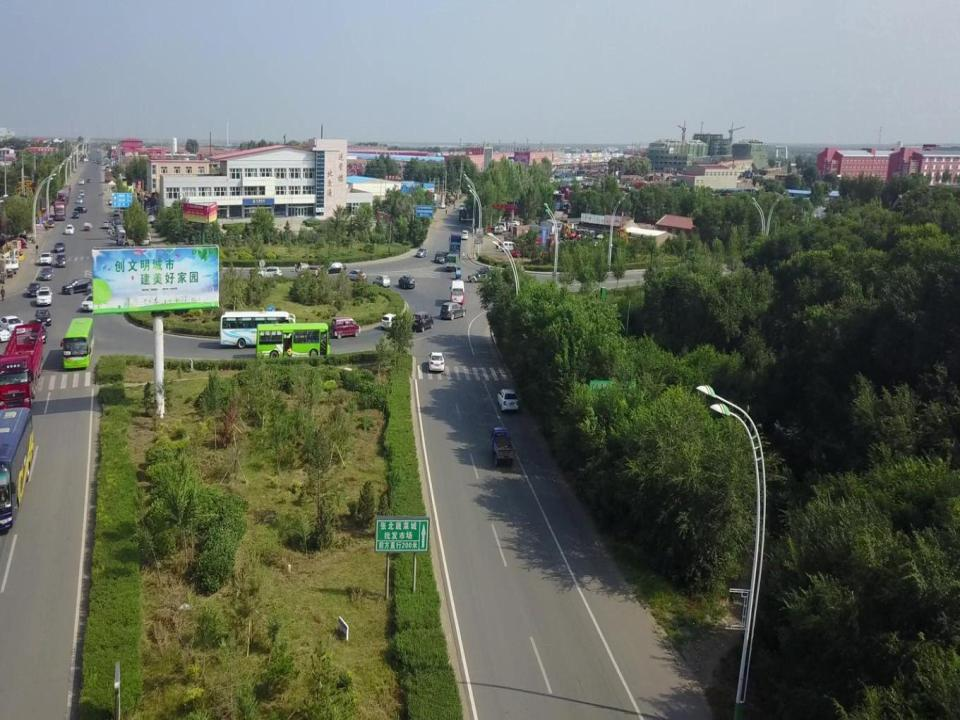bus: (1, 406, 36, 536), (256, 324, 331, 363), (219, 311, 296, 348), (60, 318, 94, 371), (449, 279, 465, 306)
car: (496, 388, 520, 412), (60, 278, 92, 296), (80, 292, 106, 312), (0, 314, 25, 334), (440, 301, 466, 320), (468, 268, 495, 284), (380, 312, 401, 332), (28, 323, 48, 344), (297, 264, 323, 280), (427, 351, 445, 373), (34, 308, 53, 326), (36, 286, 53, 306), (256, 266, 282, 278), (345, 268, 367, 282), (322, 262, 346, 274), (398, 275, 416, 290), (25, 282, 41, 298), (372, 274, 390, 288), (38, 267, 54, 282), (38, 252, 54, 266), (415, 247, 429, 258), (434, 252, 446, 264), (510, 247, 523, 258), (52, 241, 66, 251), (64, 224, 76, 234), (73, 206, 88, 214), (101, 220, 111, 228), (72, 210, 79, 218), (76, 196, 84, 203), (108, 198, 115, 205), (78, 179, 85, 184), (86, 178, 92, 182)
truck: (1, 324, 44, 410), (489, 425, 516, 467), (447, 232, 461, 260), (53, 198, 66, 221), (58, 184, 71, 204), (446, 253, 460, 271)
van: (330, 316, 360, 339), (411, 311, 434, 332), (54, 252, 66, 268), (501, 241, 518, 251), (492, 225, 503, 235), (487, 226, 499, 235), (461, 230, 469, 240), (78, 189, 85, 197)
